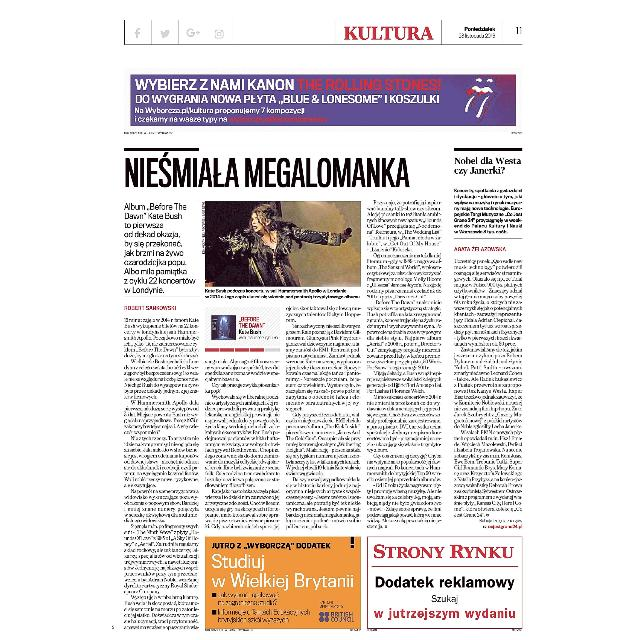article: (120, 147, 446, 636), (452, 146, 526, 532)
